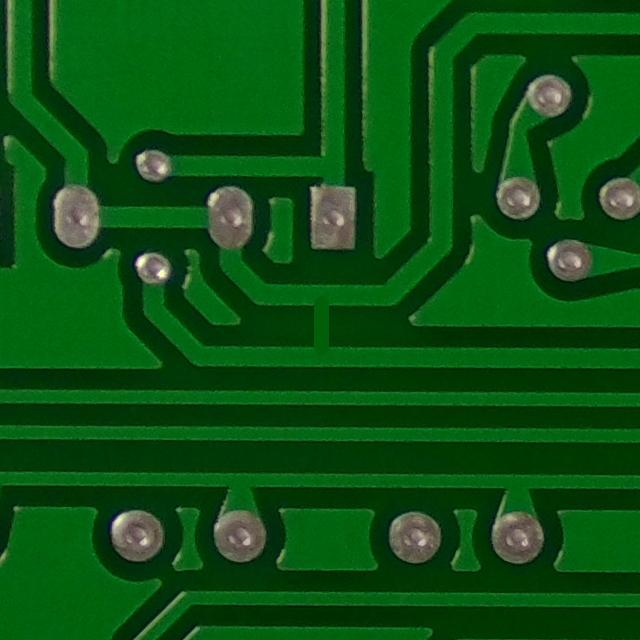short: (295, 269, 345, 371)
